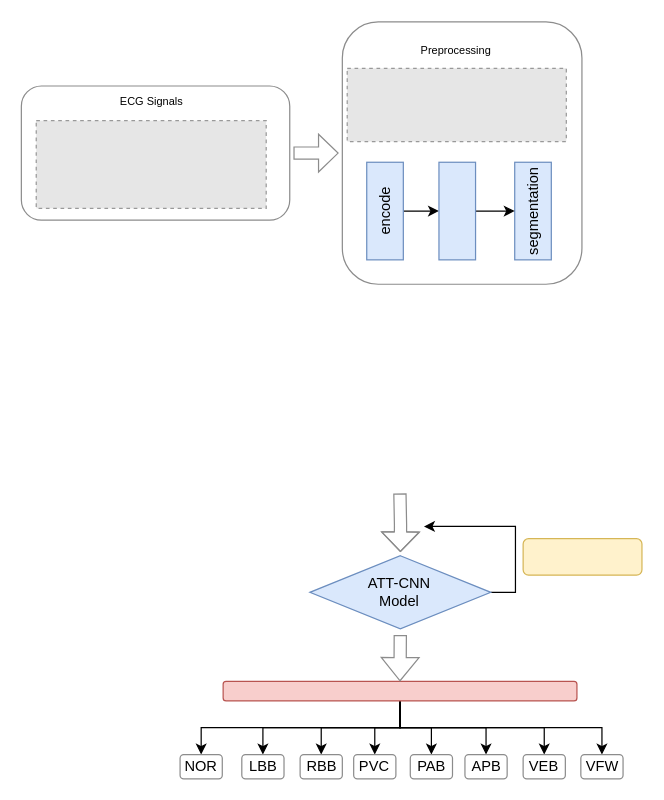
Some shapes in this 664 by 800 pixel diagram are drawn without their labels. Grey dashed boxes stand in for pictures. Each missing label, with the box of its shape:
Classification results: (222, 680, 577, 701)
denoise: (438, 161, 476, 260)
Train&Validation: (522, 537, 642, 575)
